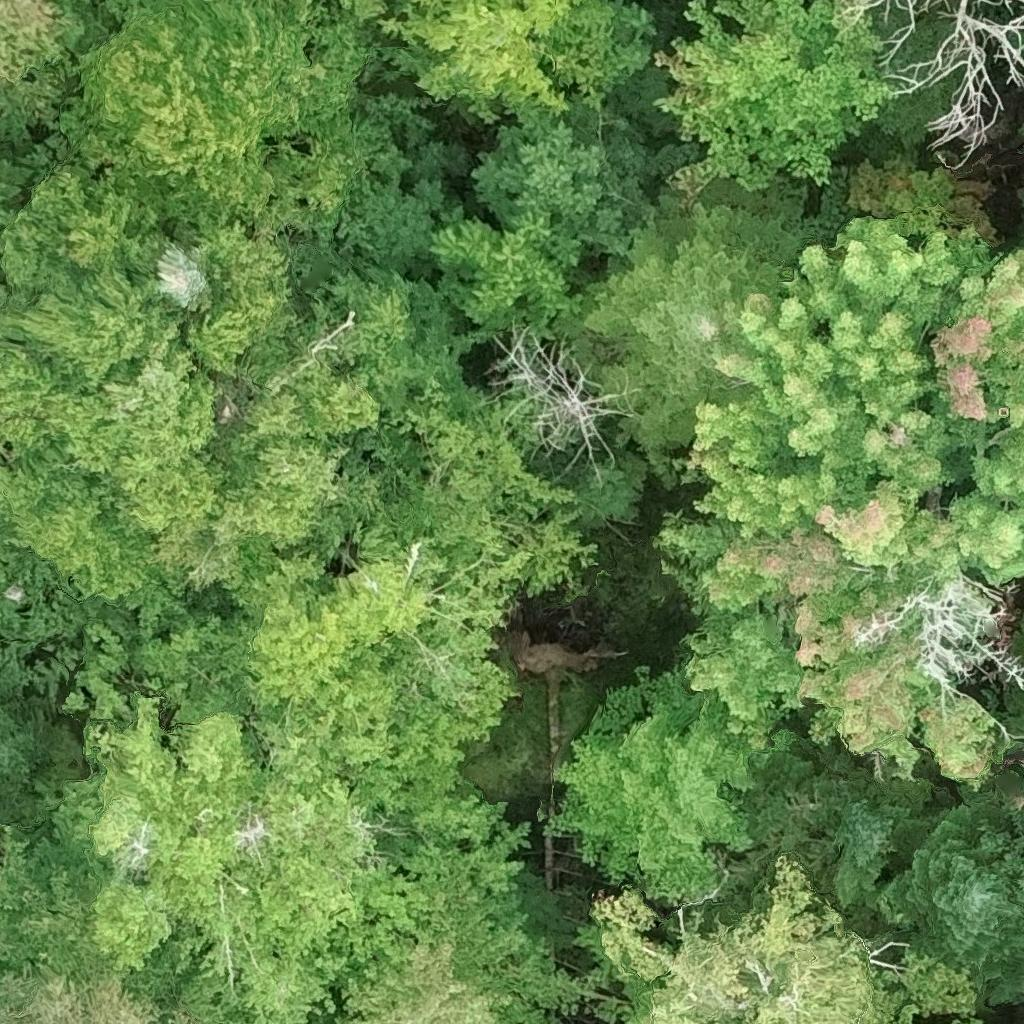crown: (682, 158, 1023, 789), (0, 216, 429, 700), (75, 500, 530, 845), (36, 692, 428, 1023), (64, 0, 392, 237), (559, 178, 804, 472), (572, 850, 976, 1023), (336, 821, 606, 1023), (377, 375, 602, 602), (544, 668, 755, 905), (655, 0, 887, 197), (0, 154, 184, 394), (471, 95, 701, 270), (0, 840, 207, 1023), (373, 0, 652, 127), (878, 804, 1023, 1005), (312, 266, 498, 412), (895, 0, 1023, 157), (429, 213, 583, 333), (494, 339, 628, 472), (689, 593, 799, 750), (834, 805, 955, 911), (0, 0, 99, 117), (0, 693, 61, 825), (154, 242, 213, 313), (884, 0, 929, 62), (0, 157, 35, 236), (877, 981, 925, 1023), (838, 0, 875, 19), (336, 0, 385, 14), (1017, 862, 1023, 907), (950, 1019, 978, 1023)
